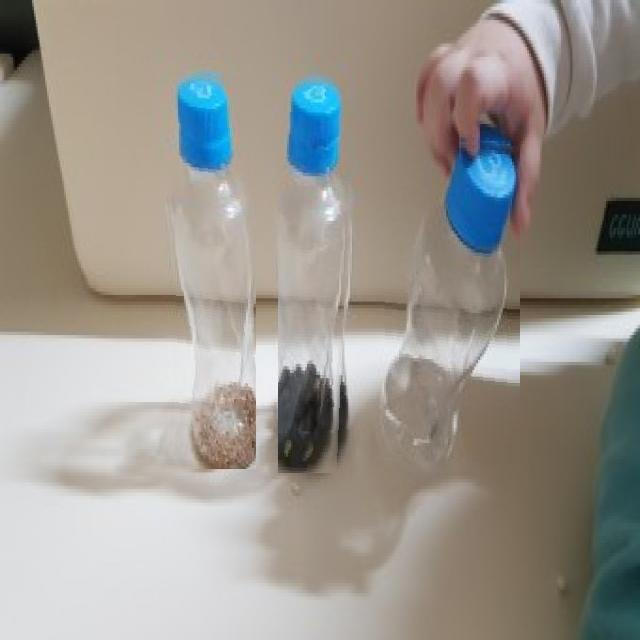plastic bottle: (378, 134, 520, 462), (164, 70, 256, 469), (278, 77, 354, 473)
